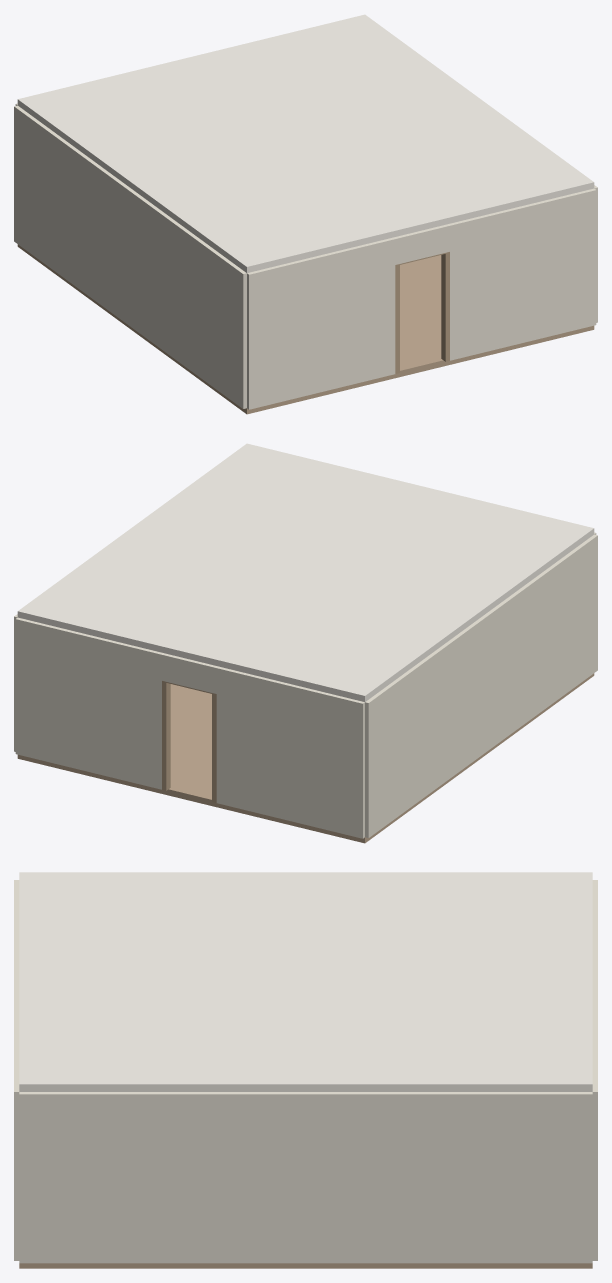
Rendered from Shell_kuroda_home.fbx.
The picture shows the model from 3 angles, top to bottom: view 1: azimuth 30°, elevation 25°; view 2: azimuth 150°, elevation 25°; view 3: azimuth 270°, elevation 25°; orthographic projection. The views are drawn at different scales.
Parts seen in each view (by area): view 1: Shell_kuroda_home; view 2: Shell_kuroda_home; view 3: Shell_kuroda_home.
Boxes of the visible parts, bbox=[...] form: Shell_kuroda_home: bbox=[14, 14, 597, 414]; Shell_kuroda_home: bbox=[14, 443, 597, 843]; Shell_kuroda_home: bbox=[14, 872, 597, 1268].
Size of the model in its own units: 7.15 by 2.84 by 8.15.
